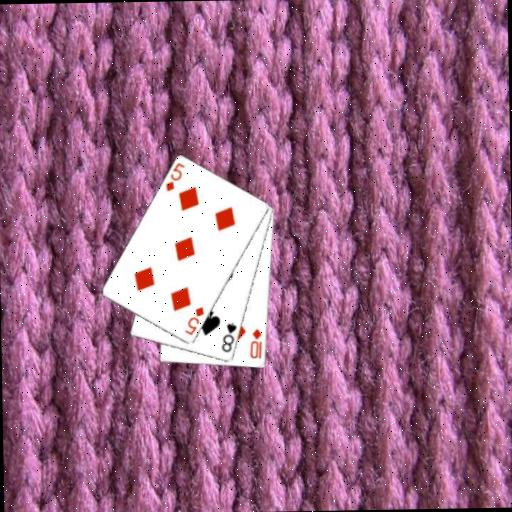10D: (247, 326, 264, 361)
5D: (162, 160, 187, 194), (181, 304, 206, 337)
8S: (218, 320, 239, 354)
